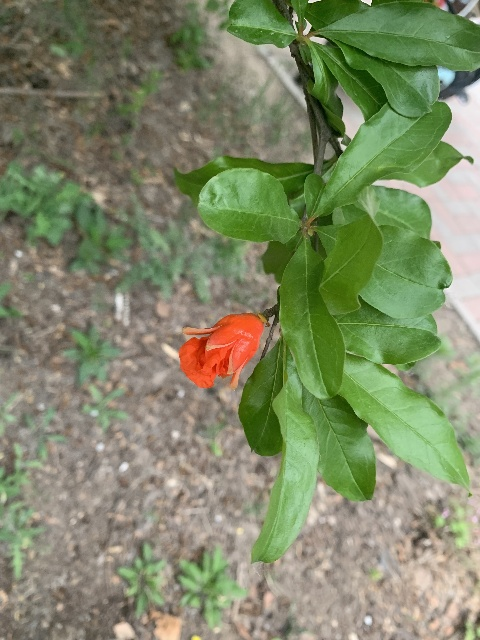flower: (178, 313, 263, 389)
